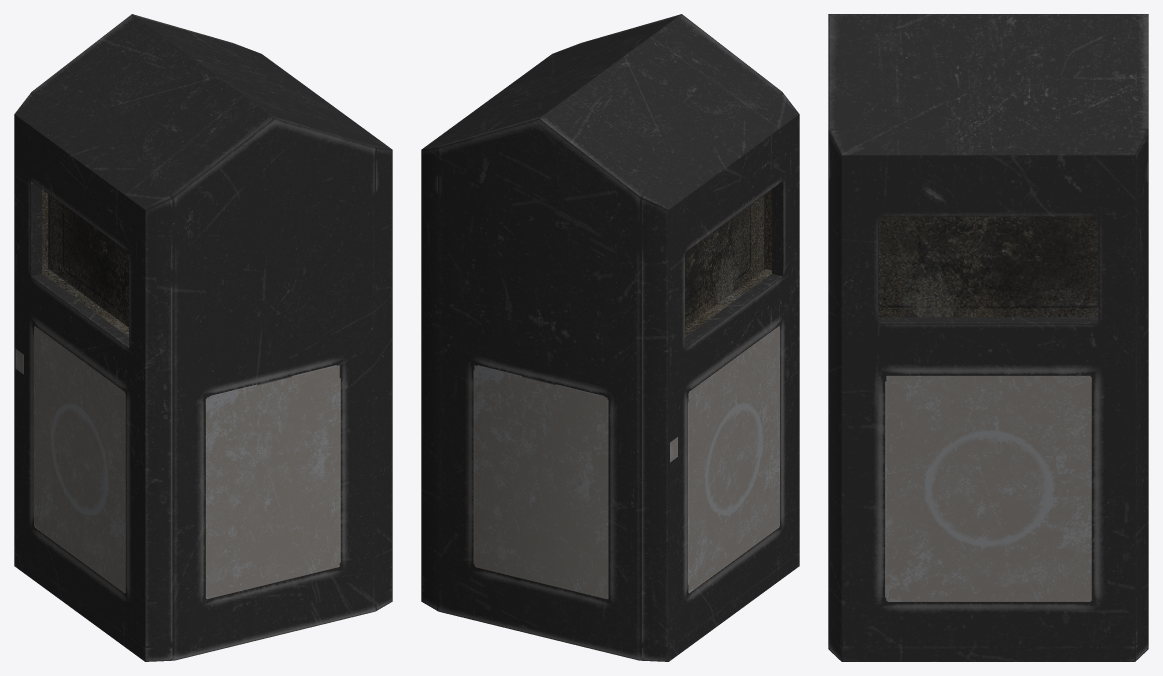
Rendered from SM_Bin.FBX.
3 views of the same model, side by side, from view 1: azimuth 30°, elevation 25°; view 2: azimuth 150°, elevation 25°; view 3: azimuth 270°, elevation 25° (orthographic). The views are drawn at different scales.
Visible parts, largest first — view 1: SM_Bin; view 2: SM_Bin; view 3: SM_Bin.
Part boxes in pixels (x1,y1,x2,y2): SM_Bin: (14,14,392,661); SM_Bin: (421,14,799,661); SM_Bin: (828,14,1148,661).
Bounding box in the file's own units: 50 × 50 × 100.
